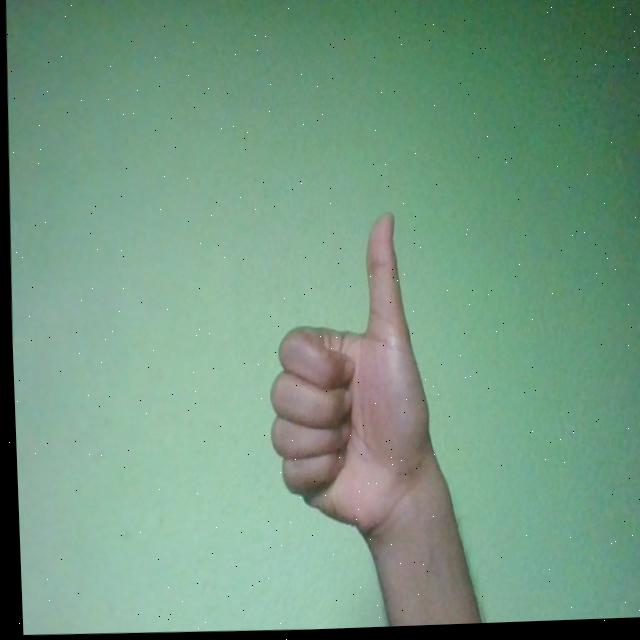Good Job: (258, 211, 433, 546)
